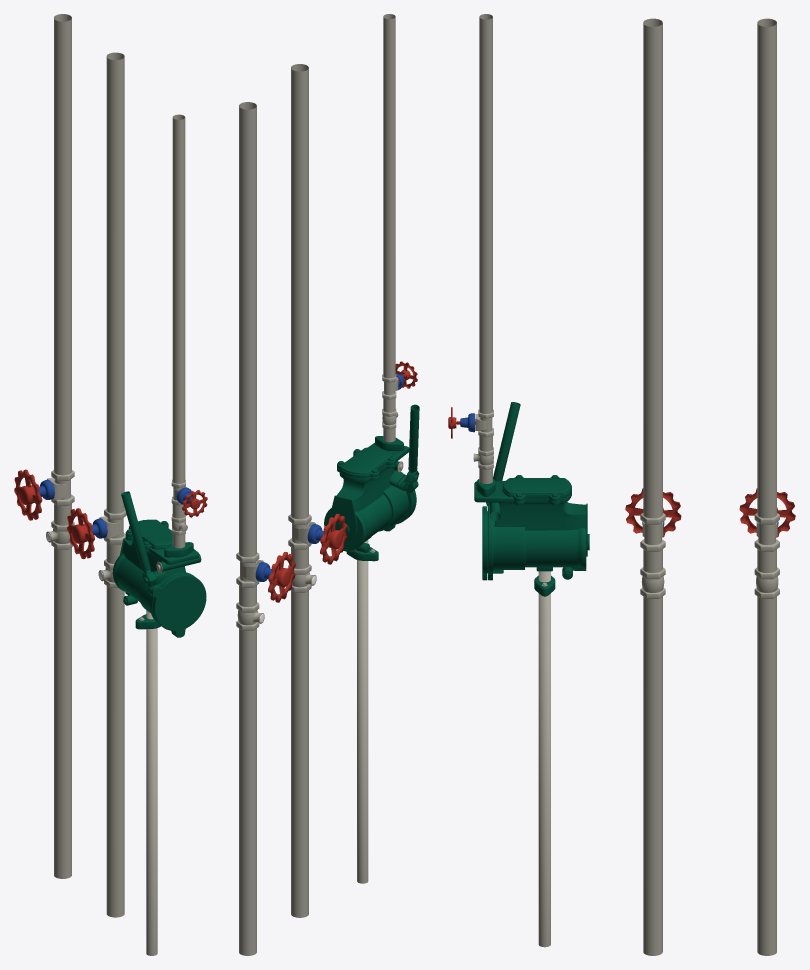
File: 手摇泵.glb
3 renders of one model, left to right at view 1: azimuth 30°, elevation 25°; view 2: azimuth 150°, elevation 25°; view 3: azimuth 270°, elevation 25°, orthographic. The views are drawn at different scales.
Parts seen in each view (by area): view 1: 14手摇泵.001, 柱体.984, 柱体.985; view 2: 14手摇泵.001, 柱体.985, 柱体.984; view 3: 14手摇泵.001, 柱体.984, 柱体.985.
Part boxes in pixels (box(x1,y1,x2,y2)): 14手摇泵.001: box(112, 114, 207, 955); 柱体.984: box(67, 52, 126, 917); 柱体.985: box(14, 14, 74, 878); 14手摇泵.001: box(324, 14, 419, 883); 柱体.985: box(236, 102, 295, 955); 柱体.984: box(288, 64, 347, 917); 14手摇泵.001: box(448, 14, 589, 947); 柱体.984: box(625, 18, 681, 955); 柱体.985: box(739, 18, 795, 955).
Size of the model in its own units: 0.2734 by 3.22 by 1.09.
